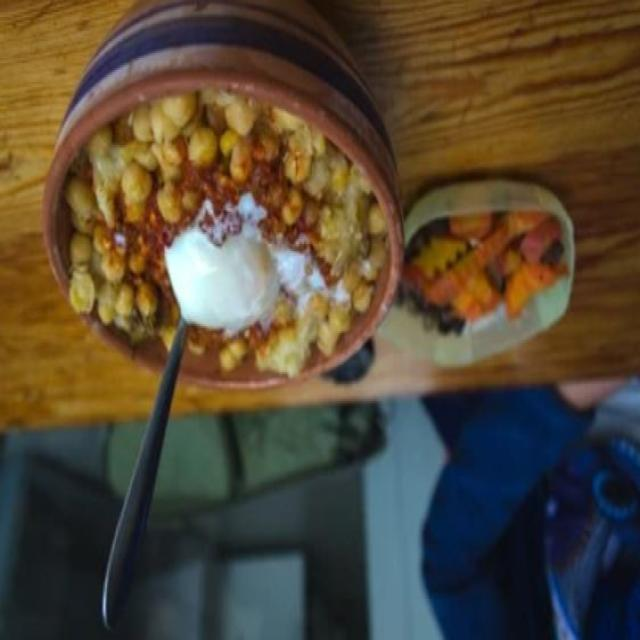Lablabi: (37, 6, 455, 470)
